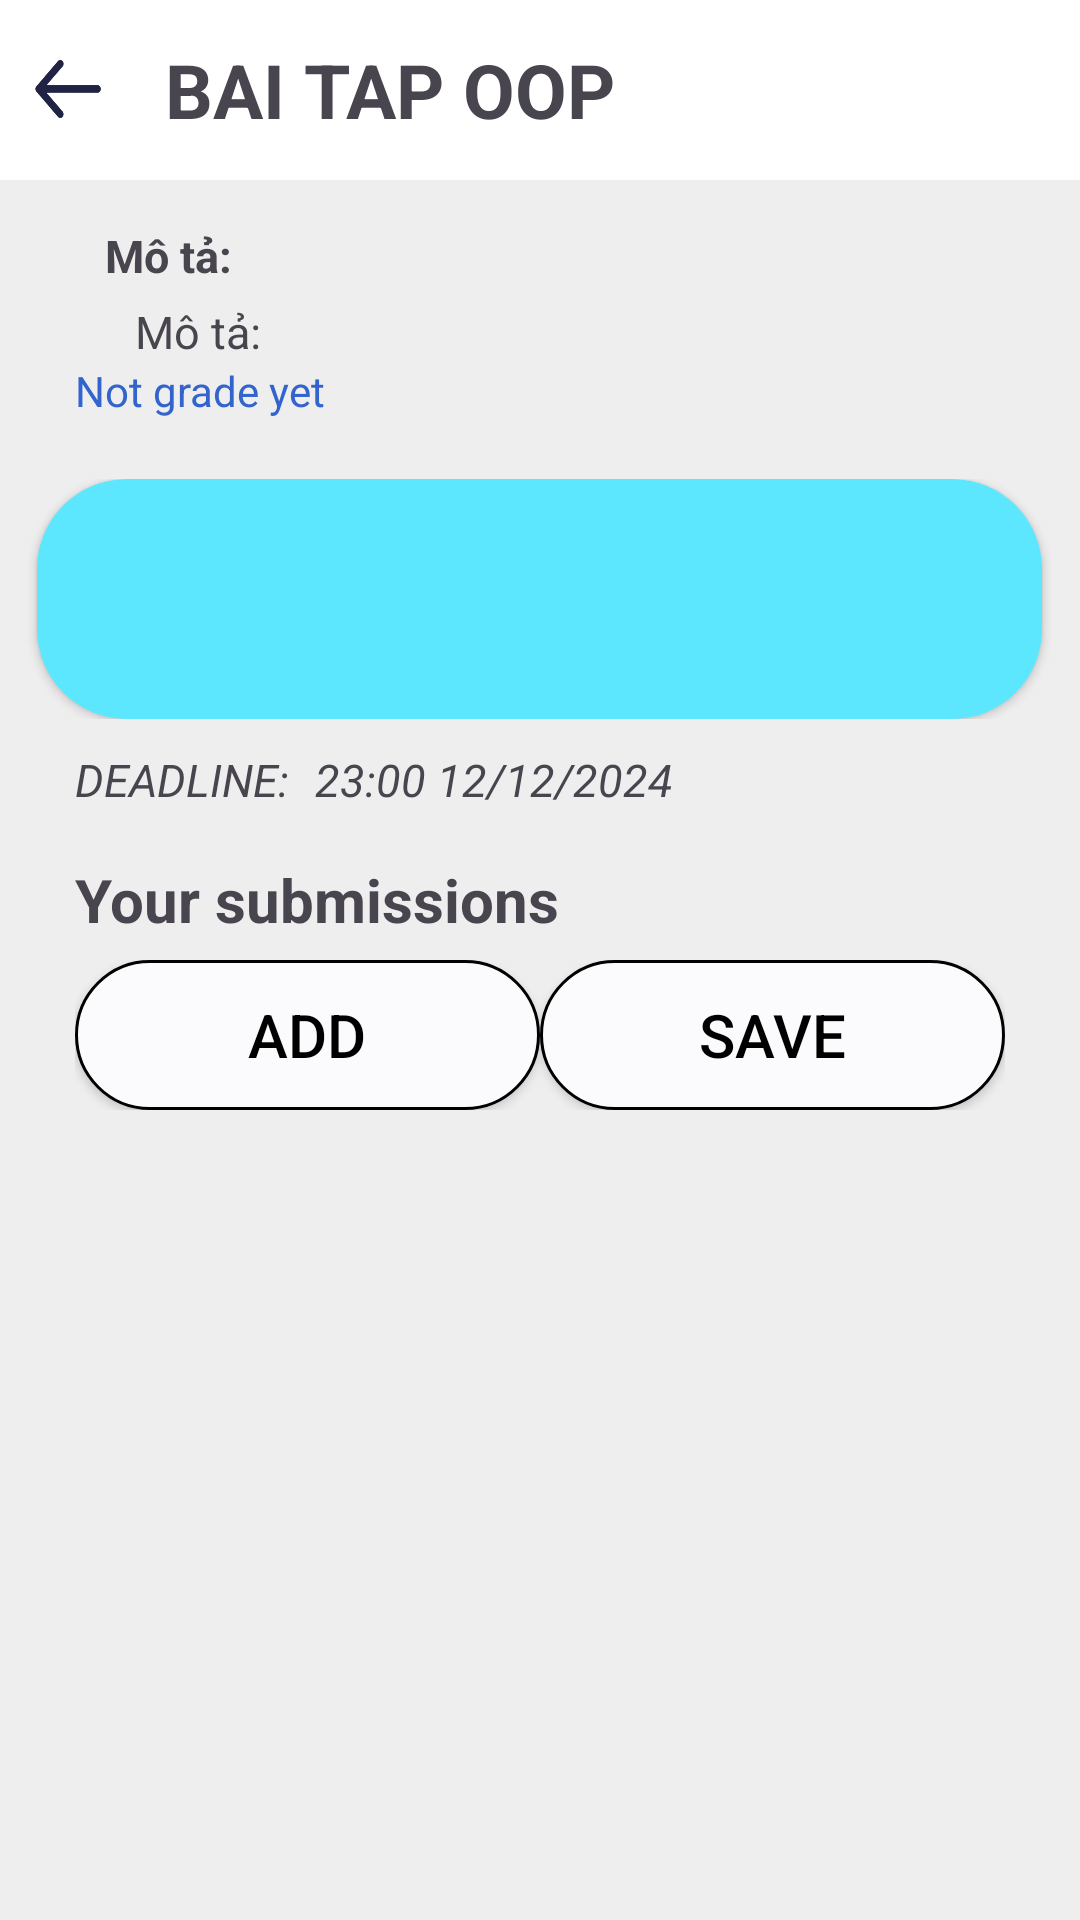

Locate icon controls on the screen. Image size 1080 x 1920, boxes as (x1, y1, x2, y2).
back: (35, 60, 101, 118)
